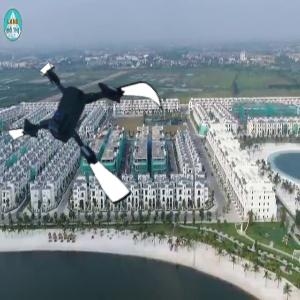drone: (14, 53, 169, 208)
